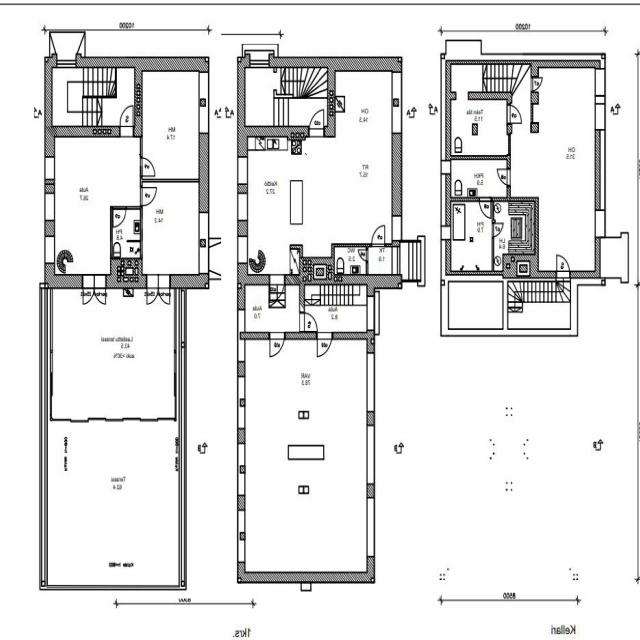door: (308, 104, 324, 137), (269, 274, 284, 307), (119, 106, 133, 138), (317, 332, 332, 361), (556, 250, 570, 281), (270, 332, 284, 361), (146, 274, 158, 305), (82, 274, 94, 305), (158, 274, 169, 305), (94, 274, 105, 305), (300, 312, 318, 330), (508, 105, 524, 124), (371, 225, 384, 248), (140, 187, 154, 206), (140, 158, 154, 176), (479, 197, 490, 218), (114, 206, 125, 227), (496, 169, 510, 184), (492, 224, 504, 238), (531, 78, 542, 91), (357, 249, 368, 261)
